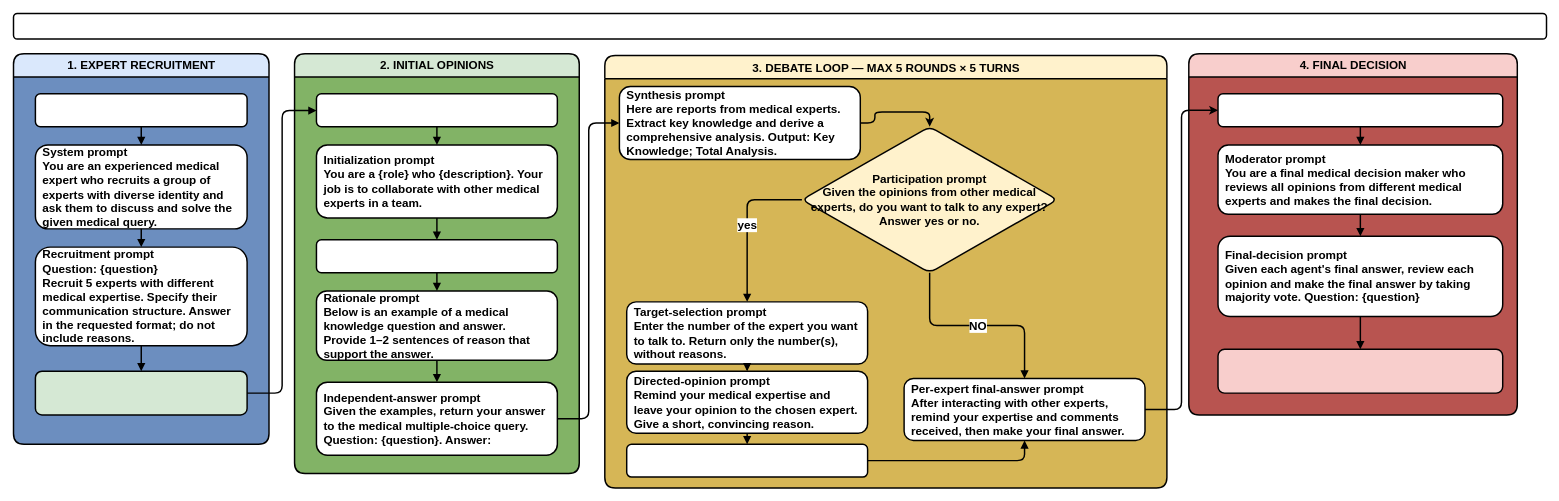
Some shapes in this 1559 by 501 pixel diagram are drawn without their labels. The centre of each missing label's shape, as x and y in pixels:
"Creat expert Agent" belongs at [436,110].
"FEW SHOT： select 5 MedQA training examples" belongs at [436,256].
"MDAgents — Intermediate Question Processing Flow" belongs at [779,25].
"Moderator agent" belongs at [1360,110].
"output 5 experts + expertise + hierarchy" belongs at [140,392].
"Output result JSON + trace JSONL" belongs at [1360,370].
"Recruiter agent" belongs at [140,110].
"Write directed opinion to interaction log" belongs at [747,460].
